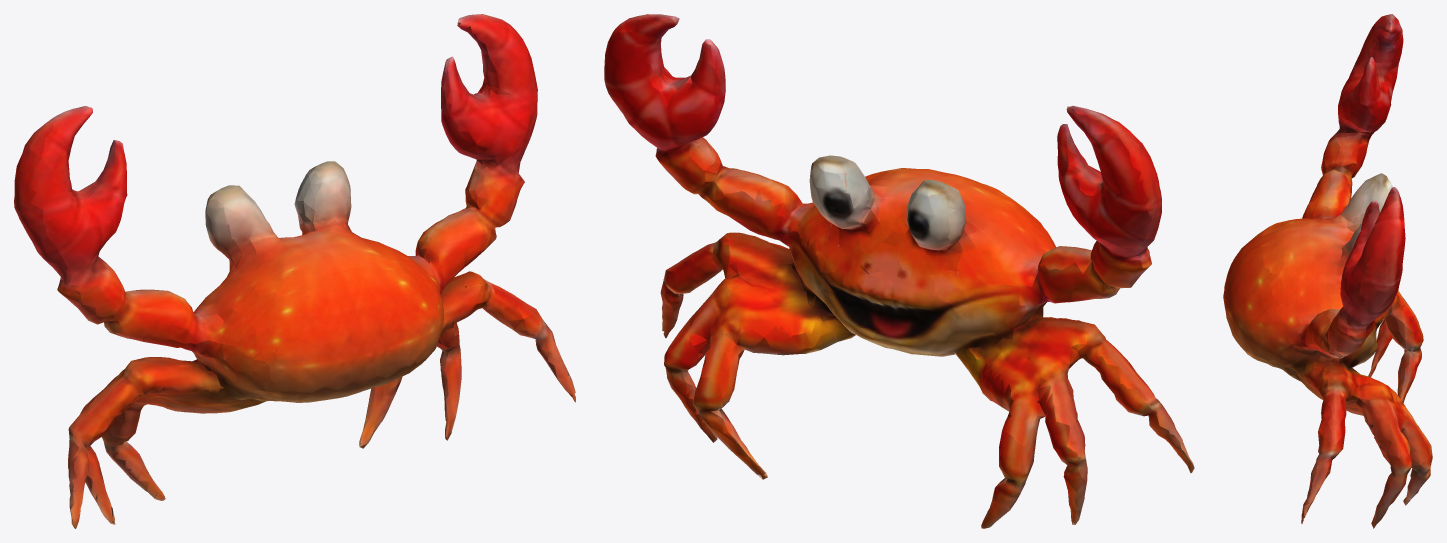
File: mr crabs.glb
3 views of the same model, side by side, from view 1: azimuth 30°, elevation 25°; view 2: azimuth 150°, elevation 25°; view 3: azimuth 270°, elevation 25° (orthographic). The views are drawn at different scales.
Parts seen in each view (by area): view 1: world; view 2: world; view 3: world.
Boxes of the visible parts, x1,y1,x2,y2 form: world: (14, 14, 575, 528); world: (604, 14, 1194, 528); world: (1223, 14, 1432, 528).
Bounding box in the file's own units: 0.9122 × 0.7034 × 0.3689.
1 material, 1 textured.
